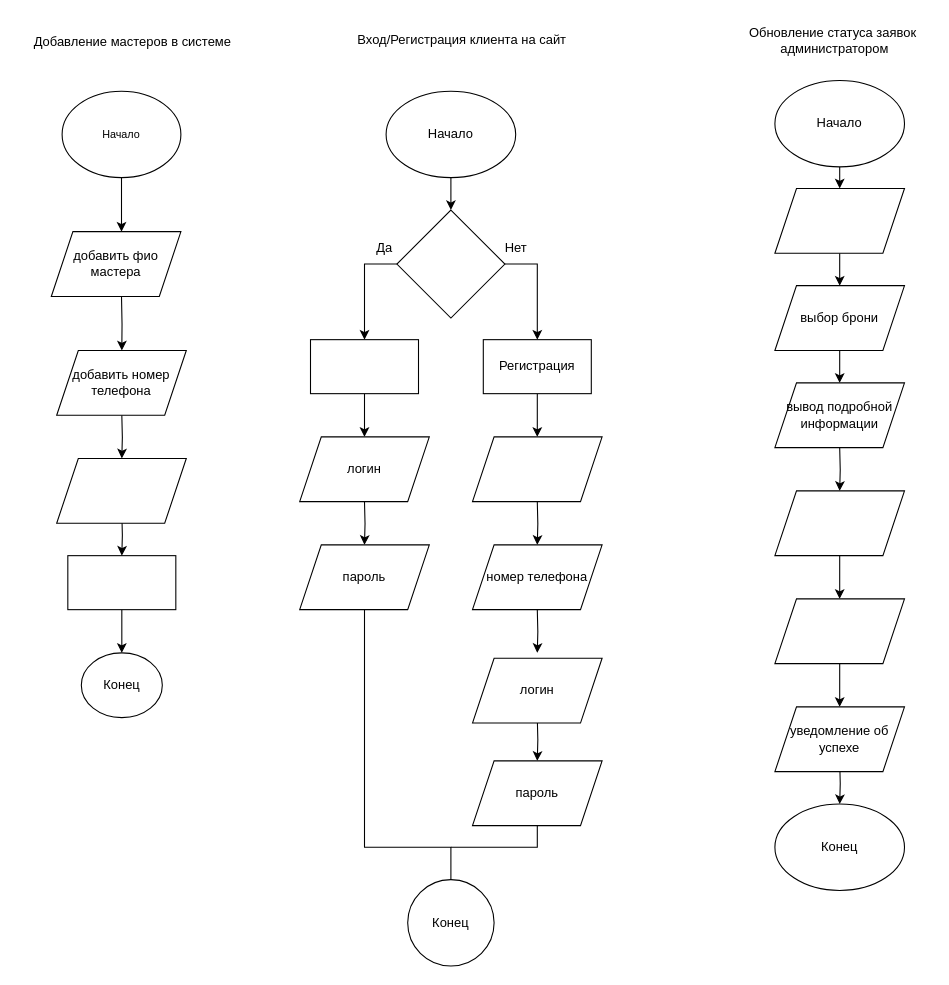
Image size: 949x985. Some labels were removed from this diagram. The shapes that lost their labels are listed below. From the top down, each one's centre as x and y in pixels, then its label:
[839,220]: получить из базы список броней
[450,263]: Клиент зарегистрирован ?
[363,366]: Вход
[536,469]: Фио
[121,490]: добавить специализацию
[839,523]: изменить бронь
[121,582]: добавить в базу
[839,631]: добавить дату возврата
